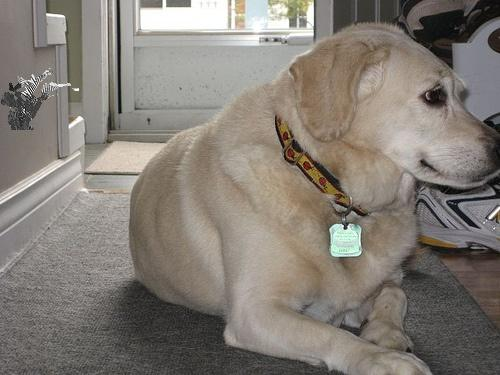tampered: (2, 69, 79, 130)
